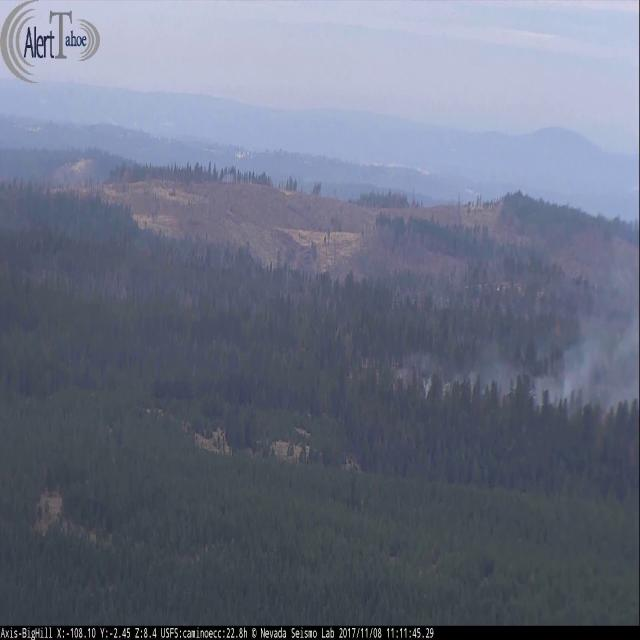smoke: (391, 235, 640, 416)
